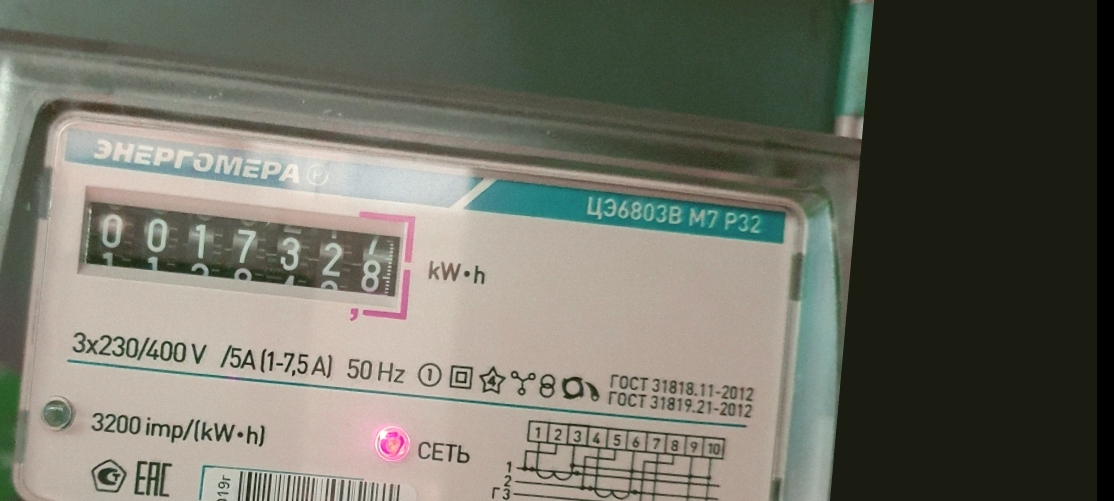0: (96, 209, 125, 251), (144, 215, 170, 255)
1: (188, 220, 210, 261)
2: (319, 240, 344, 278)
3: (277, 235, 302, 272)
7: (232, 226, 258, 266)
8: (359, 256, 381, 293)
screen: (64, 182, 426, 328)
